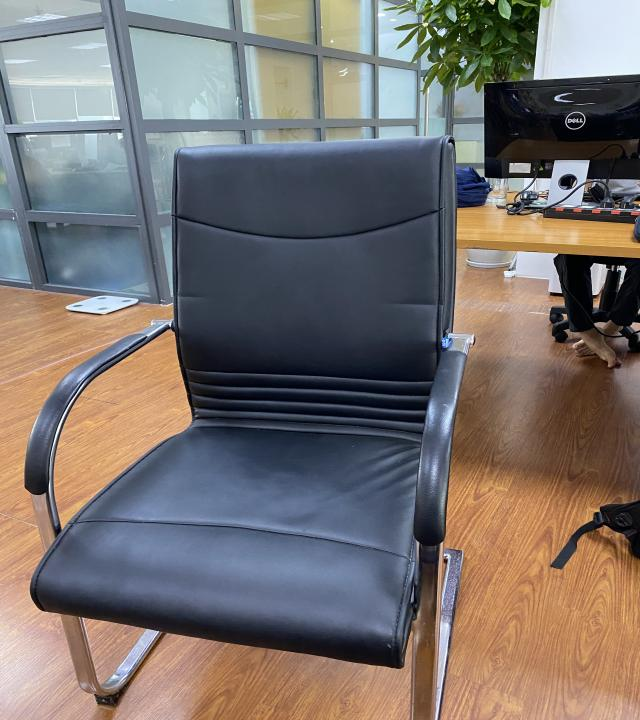SS_03: (23, 130, 478, 720)
